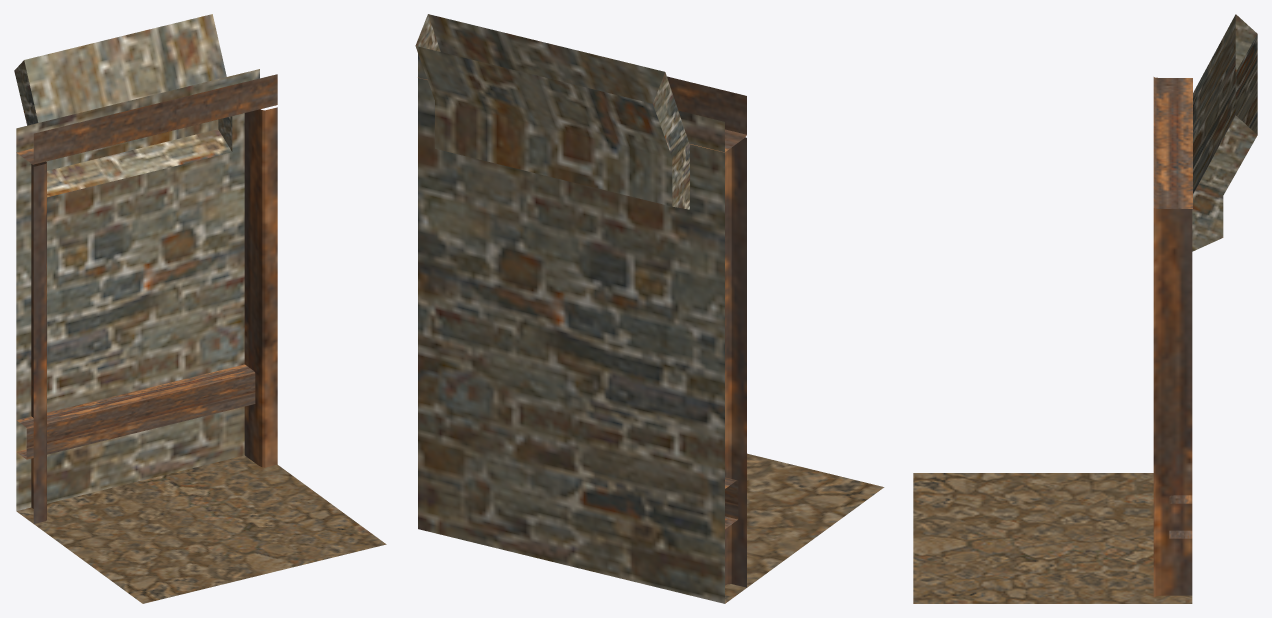
File: structure-wall-window.fbx
3 views of the same model, side by side, from view 1: azimuth 30°, elevation 25°; view 2: azimuth 150°, elevation 25°; view 3: azimuth 270°, elevation 25° (orthographic). The views are drawn at different scales.
Parts seen in each view (by area): view 1: wall-straight-window; view 2: wall-straight-window; view 3: wall-straight-window.
Part boxes in pixels (x1,y1,x2,y2): wall-straight-window: (14, 14, 386, 603); wall-straight-window: (415, 14, 884, 603); wall-straight-window: (913, 14, 1257, 603).
Size of the model in its own units: 200 by 337 by 222.
